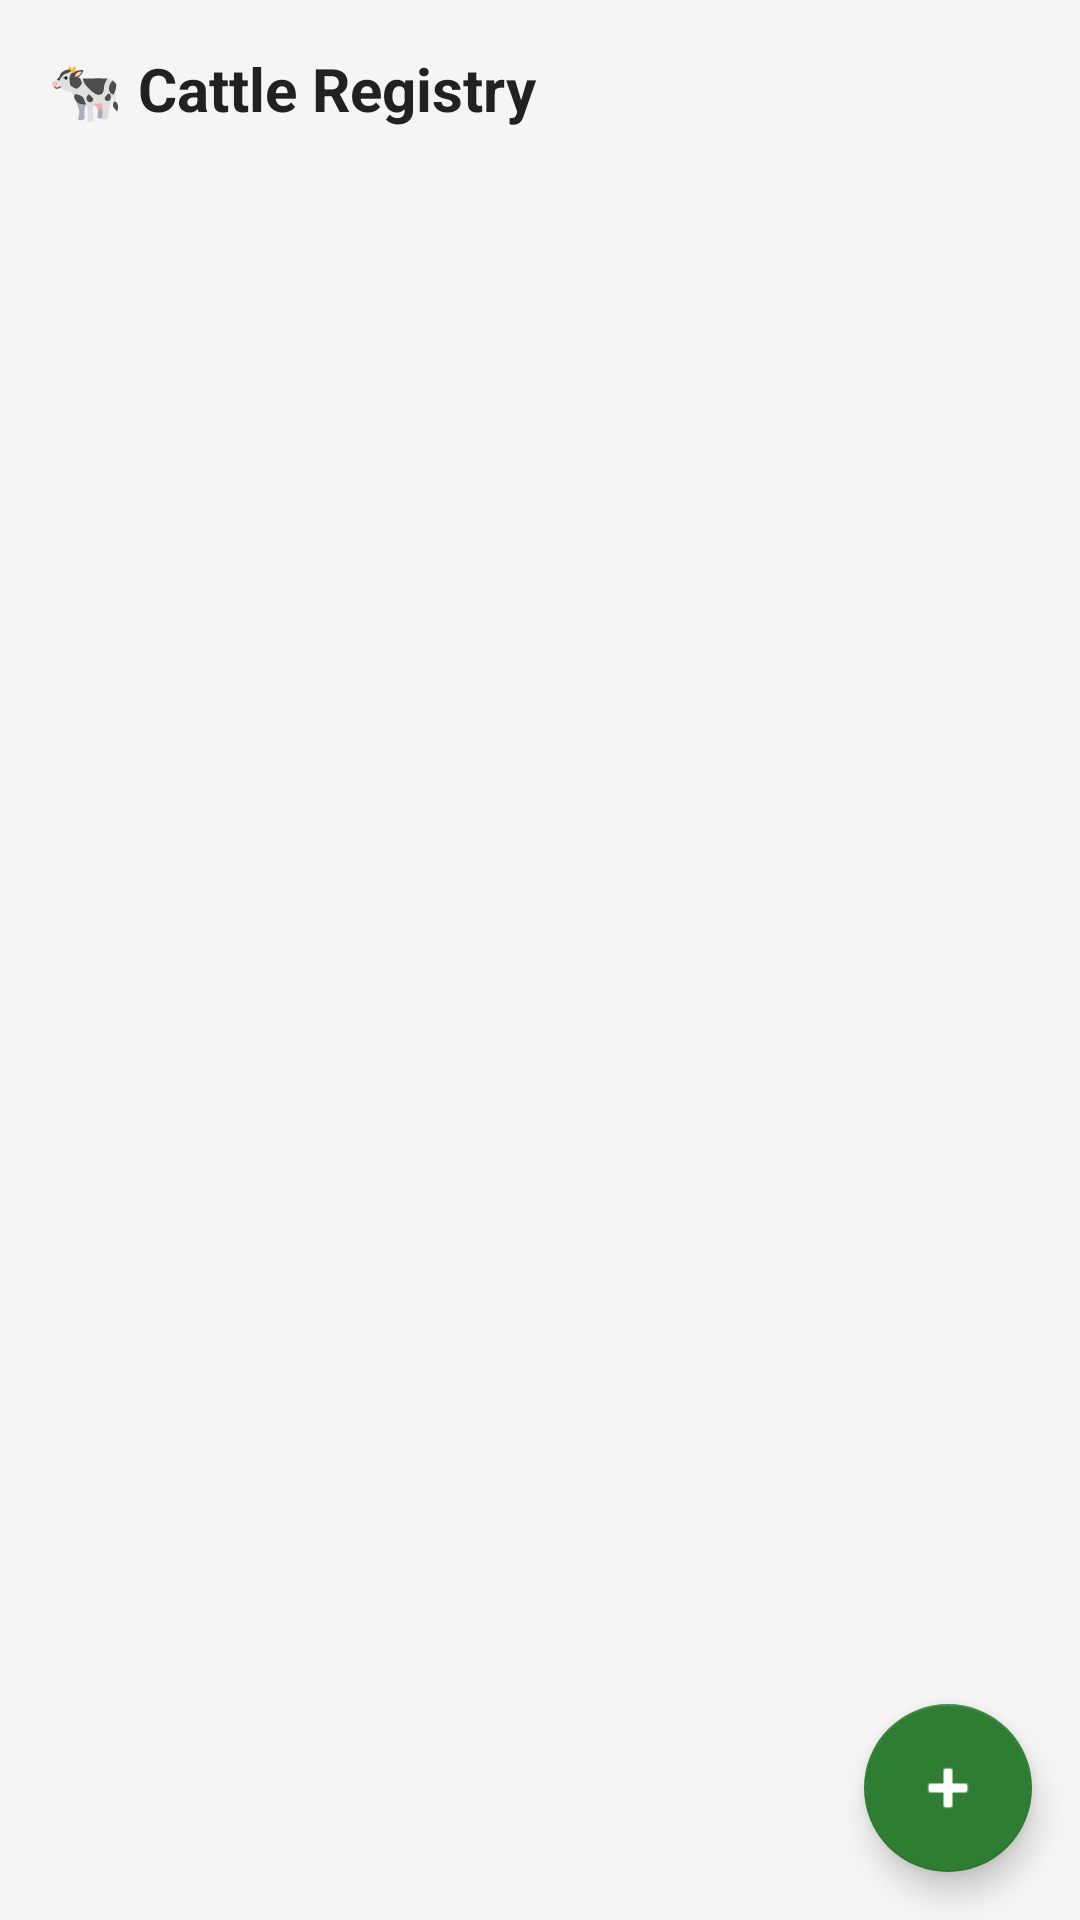

Named icons in this screenshot (1080w x 1920h) and their centers, (x,y):
Add Cattle: (948,1788)
